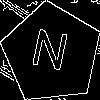N: (26, 28, 71, 81)
